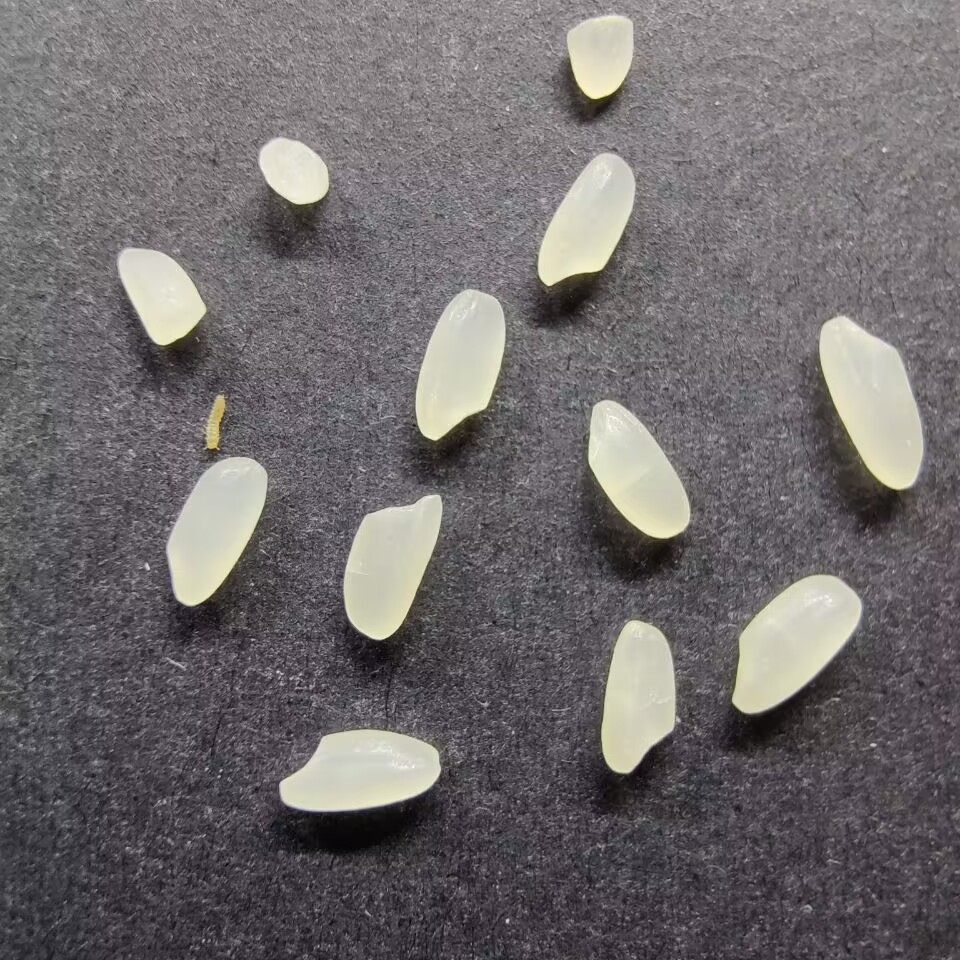broken: (114, 245, 209, 348), (565, 15, 636, 101), (257, 136, 330, 207)
others: (199, 389, 230, 455)
rice: (817, 312, 925, 492), (729, 572, 862, 716), (165, 454, 270, 609), (342, 492, 446, 641), (587, 399, 693, 541), (412, 286, 506, 444), (535, 150, 636, 290), (276, 728, 440, 813), (598, 618, 677, 777)
